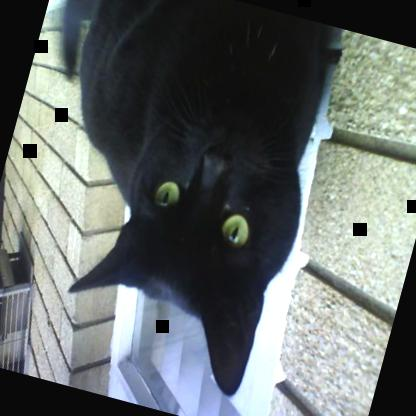cat: (0, 0, 351, 402)
